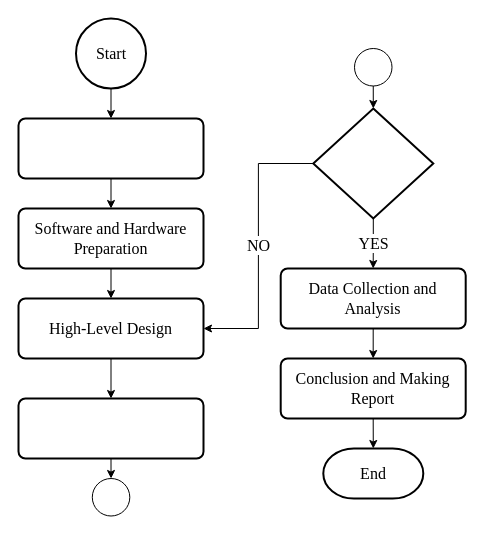
Some shapes in this 484 by 533 pixel diagram are drawn without their labels. Here are the shapes that lost their labels. From the top down, the centre of each, then its label:
At (110,148): "Literature Review".
At (373,163): "Works Successfully".
At (110,428): "Program Verification".
